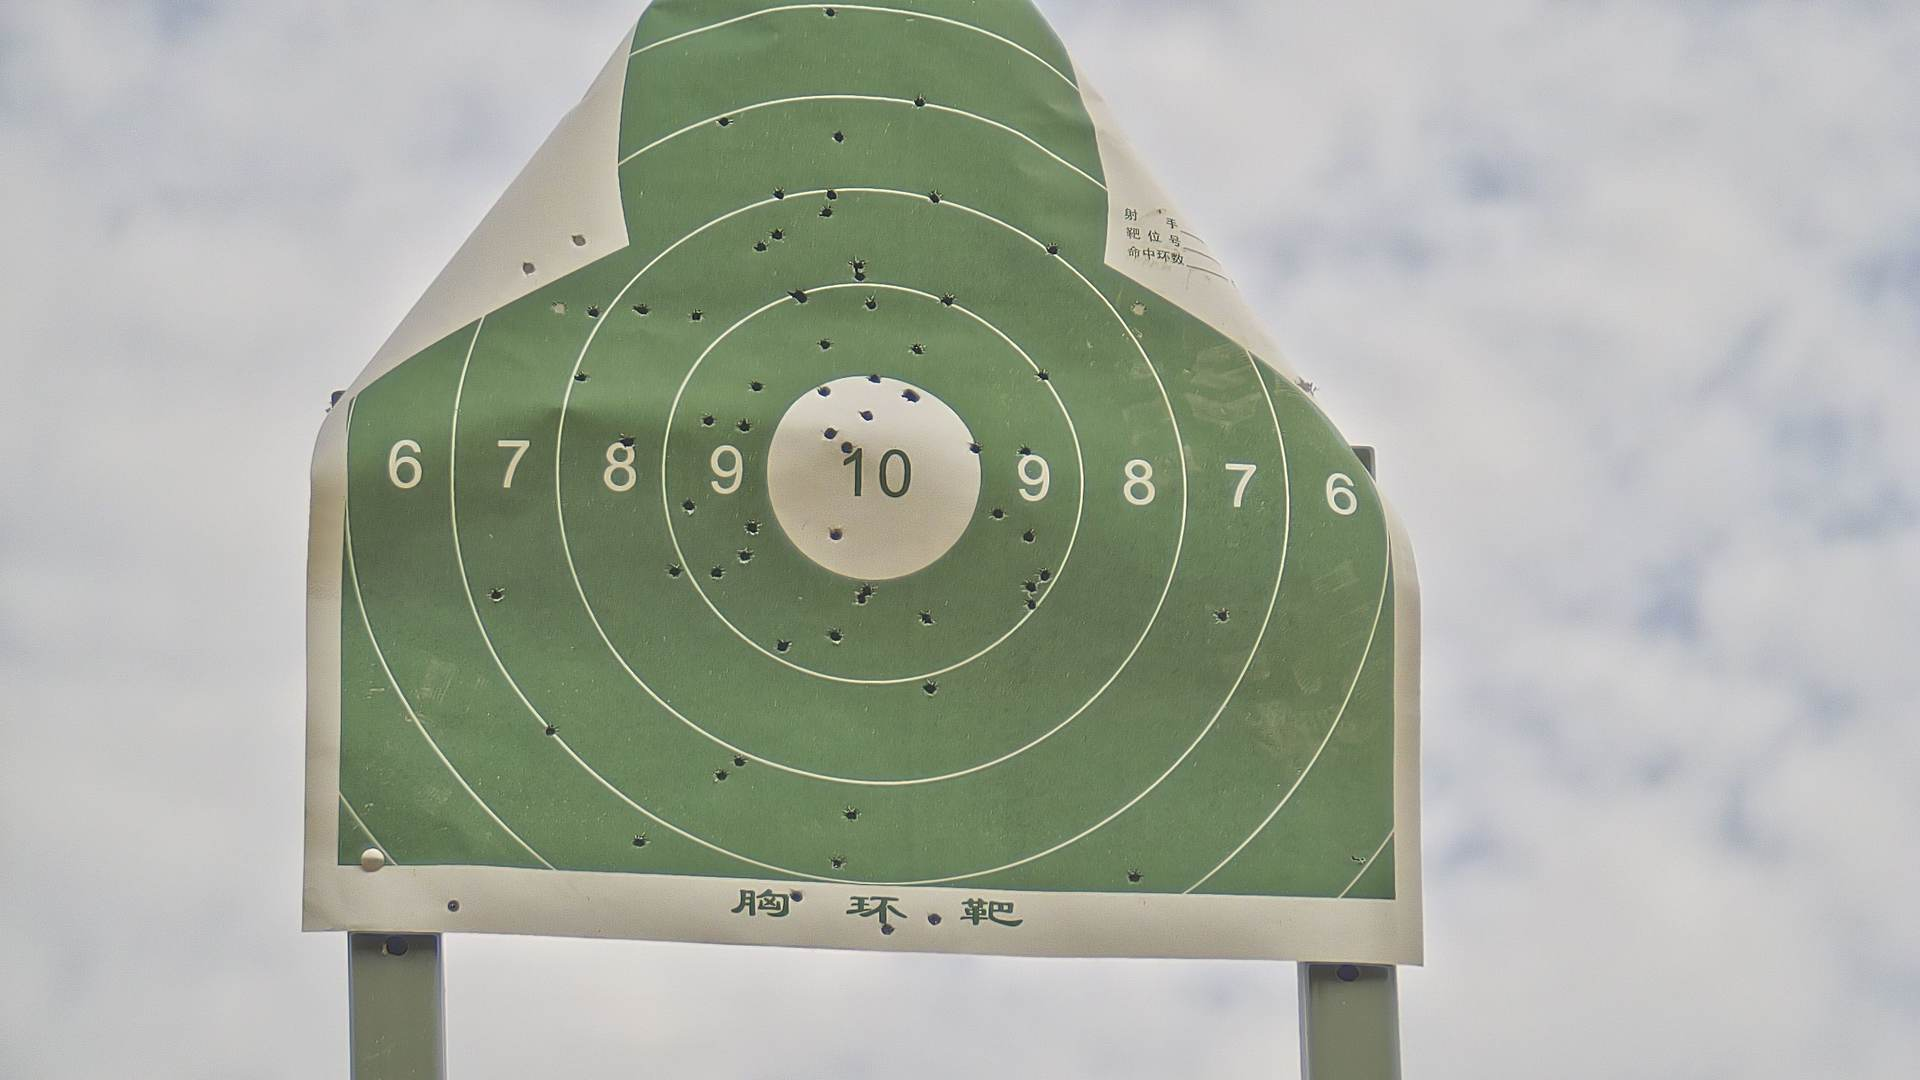hole: (786, 287, 808, 309), (861, 291, 882, 314), (899, 385, 922, 406), (736, 546, 760, 566), (1209, 605, 1233, 625), (735, 415, 756, 436), (841, 804, 862, 825), (1021, 595, 1043, 615), (1019, 578, 1043, 596), (742, 518, 764, 538), (549, 299, 568, 320), (686, 306, 708, 324), (617, 433, 640, 451), (771, 637, 794, 655), (708, 563, 728, 583), (745, 376, 766, 394), (825, 525, 847, 543), (920, 679, 942, 698), (828, 855, 849, 873), (487, 585, 508, 604), (1014, 442, 1036, 459), (695, 411, 717, 429), (1127, 301, 1151, 316), (936, 290, 956, 309), (666, 562, 684, 582), (988, 505, 1009, 522), (584, 303, 605, 320), (847, 257, 869, 273), (815, 338, 837, 353), (1036, 566, 1055, 584), (711, 767, 731, 785), (444, 895, 462, 915), (916, 611, 938, 626), (924, 911, 945, 927), (926, 189, 944, 206), (752, 237, 770, 255), (1021, 527, 1038, 546), (861, 582, 880, 599), (827, 626, 845, 644), (520, 260, 538, 277), (851, 269, 872, 284), (630, 302, 651, 316), (1043, 243, 1062, 258), (815, 384, 833, 400), (839, 439, 857, 455), (679, 498, 698, 514), (543, 723, 562, 738), (632, 835, 651, 849), (713, 116, 737, 128), (731, 756, 752, 769), (818, 203, 835, 219), (1034, 368, 1051, 384), (857, 407, 874, 423), (574, 372, 592, 386), (1126, 869, 1145, 884), (827, 131, 847, 144), (910, 342, 926, 357), (789, 889, 804, 905), (880, 922, 895, 938), (771, 228, 789, 243), (865, 371, 882, 385), (572, 233, 589, 248), (851, 593, 869, 607), (968, 440, 984, 455), (822, 426, 837, 440), (771, 187, 787, 200), (824, 189, 841, 200), (914, 94, 926, 109), (822, 8, 837, 18)
kernel: (868, 473, 876, 483)
target: (342, 5, 1400, 913)
ten: (764, 373, 982, 576)
